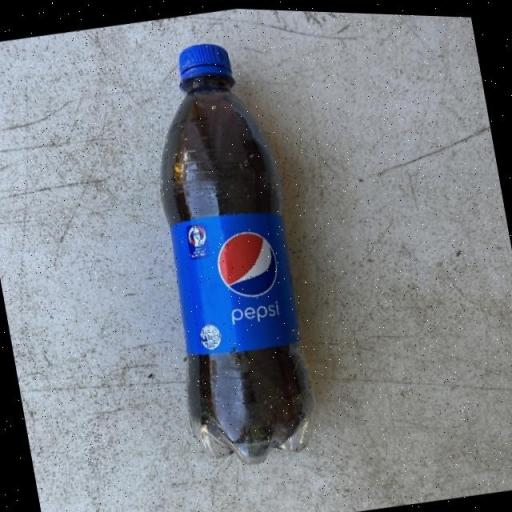plastic: (126, 28, 328, 472)
